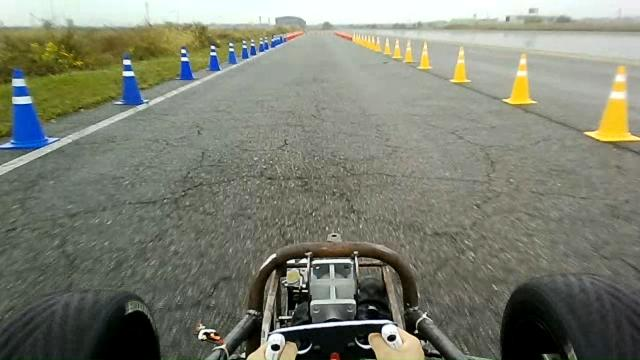blue cone: (0, 67, 60, 150), (113, 52, 148, 106), (174, 46, 198, 80), (205, 44, 222, 71), (227, 41, 238, 64), (241, 39, 249, 59)
yellow cone: (583, 64, 639, 143), (502, 52, 538, 105), (449, 45, 472, 84), (417, 40, 432, 70), (402, 38, 416, 62), (391, 38, 403, 59), (383, 37, 392, 55)
